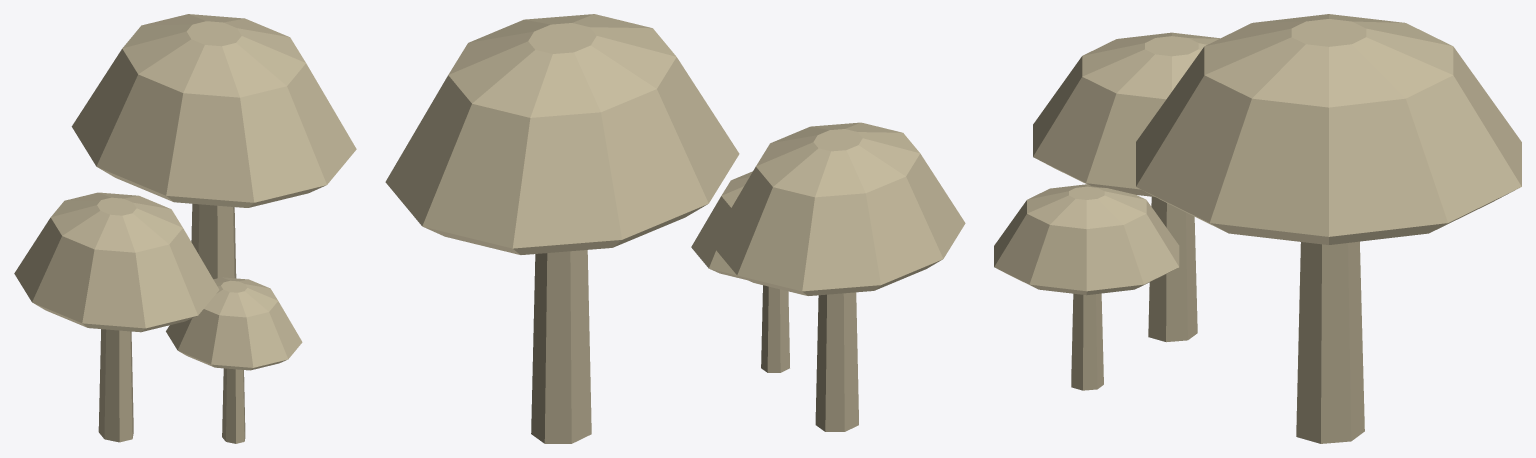
The model's file is WarrensC_WVC070_MushroomCluster_Mars_SM.fbx.
The picture shows the model from 3 angles, left to right: view 1: azimuth 30°, elevation 25°; view 2: azimuth 150°, elevation 25°; view 3: azimuth 270°, elevation 25°; orthographic projection. The views are drawn at different scales.
Visible parts, largest first — view 1: WarrensC_WVC070_MushroomCluster_Mars_SM.001; view 2: WarrensC_WVC070_MushroomCluster_Mars_SM.001; view 3: WarrensC_WVC070_MushroomCluster_Mars_SM.001.
Boxes of the visible parts, x1,y1,x2,y2 form: WarrensC_WVC070_MushroomCluster_Mars_SM.001: [14, 14, 356, 443]; WarrensC_WVC070_MushroomCluster_Mars_SM.001: [385, 14, 965, 443]; WarrensC_WVC070_MushroomCluster_Mars_SM.001: [994, 14, 1521, 443].
Bounding box in the file's own units: 60 × 60 × 50.
